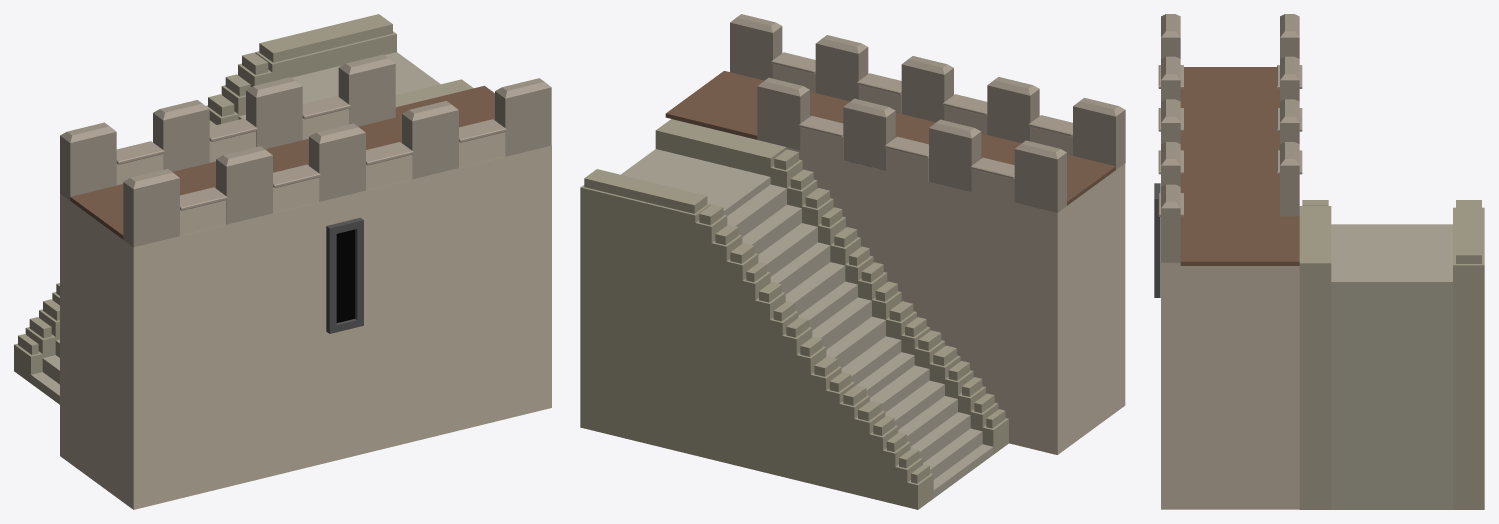
Rendered from new_wall_staris.fbx.
The picture shows the model from 3 angles, left to right: view 1: azimuth 30°, elevation 25°; view 2: azimuth 150°, elevation 25°; view 3: azimuth 270°, elevation 25°; orthographic projection. The views are drawn at different scales.
Parts seen in each view (by area): view 1: wall_A2, stairs0_2, floor1, window1, spike10, spike5, spike6, spike9, spike7, spike8, spike2, spike3 (+17 smaller); view 2: stairs0_2, wall_A2, stairs0_1, stairs0_4, floor1, spike5, spike10, spike2, spike4, spike3, spike7, spike8 (+13 smaller); view 3: stairs0_1, wall_A2, floor1, stairs0_4, stairs0_2, spike6, spike2, spike4, spike9, spike7, spike8, spike10 (+3 smaller).
Part boxes in pixels (x1=…): wall_A2: x1=60, y1=145, x2=551, y2=509; stairs0_2: x1=14, y1=14, x2=396, y2=383; floor1: x1=70, y1=85, x2=494, y2=239; window1: x1=326, y1=217, x2=363, y2=333; spike10: x1=123, y1=169, x2=179, y2=247; spike5: x1=60, y1=122, x2=116, y2=200; spike6: x1=495, y1=78, x2=551, y2=156; spike9: x1=216, y1=146, x2=272, y2=224; spike7: x1=402, y1=101, x2=458, y2=179; spike8: x1=309, y1=123, x2=365, y2=201; spike2: x1=338, y1=54, x2=395, y2=126; spike3: x1=246, y1=77, x2=302, y2=149; stairs0_2: x1=580, y1=169, x2=933, y2=509; wall_A2: x1=680, y1=121, x2=1125, y2=454; stairs0_1: x1=621, y1=149, x2=993, y2=498; stairs0_4: x1=655, y1=119, x2=1008, y2=454; floor1: x1=665, y1=71, x2=1115, y2=205; spike5: x1=1014, y1=140, x2=1066, y2=212; spike10: x1=1073, y1=97, x2=1125, y2=169; spike2: x1=757, y1=77, x2=809, y2=149; spike4: x1=929, y1=119, x2=981, y2=191; spike3: x1=843, y1=98, x2=895, y2=170; spike7: x1=815, y1=35, x2=868, y2=101; spike8: x1=901, y1=56, x2=953, y2=122; stairs0_1: x1=1331, y1=224, x2=1452, y2=509; wall_A2: x1=1161, y1=262, x2=1299, y2=509; floor1: x1=1180, y1=67, x2=1299, y2=265; stairs0_4: x1=1299, y1=200, x2=1331, y2=509; stairs0_2: x1=1453, y1=200, x2=1484, y2=509; spike6: x1=1161, y1=184, x2=1180, y2=262; spike2: x1=1280, y1=142, x2=1299, y2=216; spike4: x1=1280, y1=56, x2=1299, y2=101; spike9: x1=1161, y1=56, x2=1180, y2=101; spike7: x1=1161, y1=142, x2=1180, y2=186; spike8: x1=1161, y1=99, x2=1180, y2=143; spike10: x1=1161, y1=14, x2=1180, y2=58.
Bounding box in the file's own units: 504 × 369 × 361.
